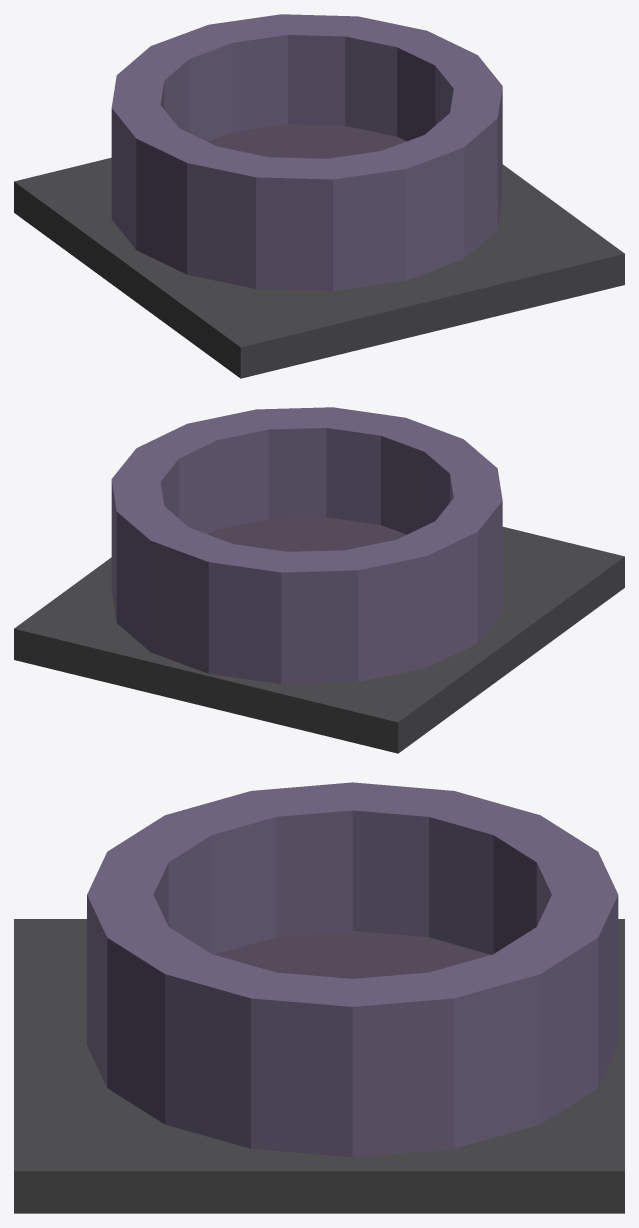
Rendered from vge_astrofuel_drain.obj.
The picture shows the model from 3 angles, top to bottom: view 1: azimuth 30°, elevation 25°; view 2: azimuth 150°, elevation 25°; view 3: azimuth 270°, elevation 25°; orthographic projection. The views are drawn at different scales.
Parts seen in each view (by area): view 1: vge_astrofuel_drain_1, vge_astrofuel_drain_0, vge_astrofuel_drain_2; view 2: vge_astrofuel_drain_1, vge_astrofuel_drain_0, vge_astrofuel_drain_2; view 3: vge_astrofuel_drain_1, vge_astrofuel_drain_0, vge_astrofuel_drain_2.
Boxes of the visible parts, box(x1,y1,x2,y2) form: vge_astrofuel_drain_1: box(111, 14, 502, 291); vge_astrofuel_drain_0: box(14, 157, 624, 378); vge_astrofuel_drain_2: box(208, 124, 406, 158); vge_astrofuel_drain_1: box(111, 407, 502, 684); vge_astrofuel_drain_0: box(14, 526, 624, 753); vge_astrofuel_drain_2: box(207, 517, 406, 551); vge_astrofuel_drain_1: box(87, 782, 618, 1157); vge_astrofuel_drain_0: box(14, 919, 624, 1213); vge_astrofuel_drain_2: box(214, 931, 490, 978).
Size of the model in its own units: 0.9 by 0.32 by 0.92.
